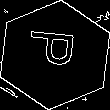P_E: (26, 34, 84, 76)
